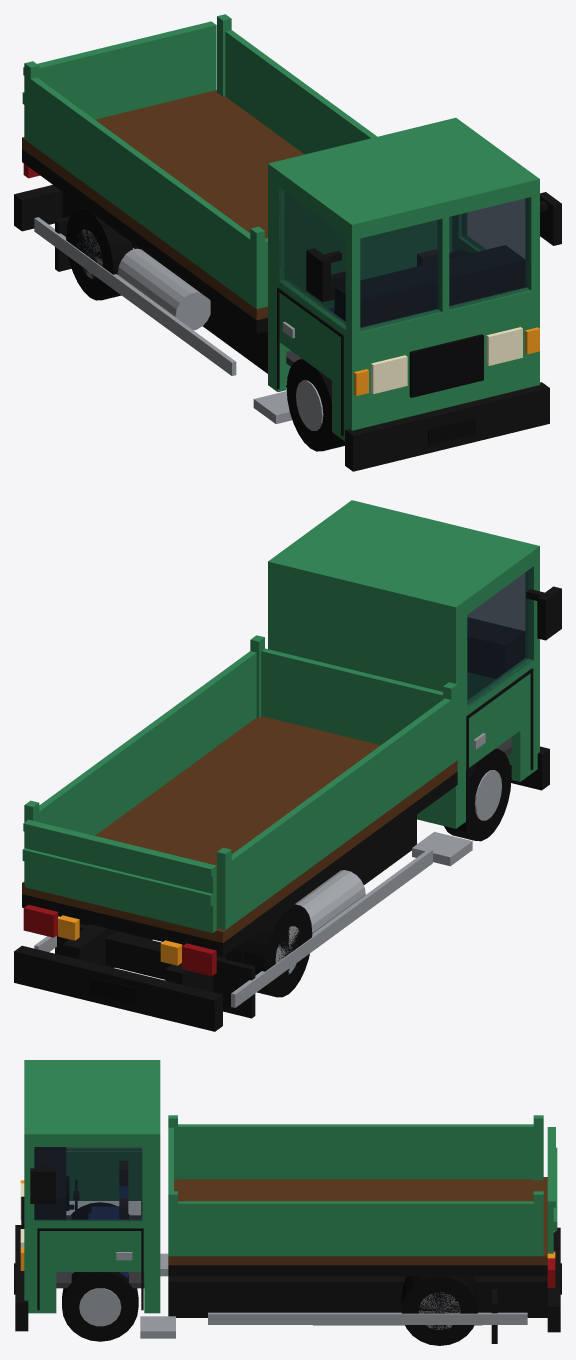
The model's file is truk_bak.glb.
The picture shows the model from 3 angles, top to bottom: view 1: azimuth 30°, elevation 25°; view 2: azimuth 150°, elevation 25°; view 3: azimuth 270°, elevation 25°; orthographic projection. The views are drawn at different scales.
Parts seen in each view (by area): view 1: Roof, CargoFloorWood, BakWall_L, CabFrontLow, Door_Tailgate, BakWall_R, Bumper_F, Windshield_L, Windshield_R, IntDash, SideGlass_L, CabBackTop (+30 smaller); view 2: CargoFloorWood, Roof, BakWall_L, CabBackTop, BakWall_R, Door_Tailgate, BakFront, Bumper_R, SideGlass_L, CargoFloor, Wheel_RL, SideGuard_L (+25 smaller); view 3: BakWall_R, BakWall_L, CargoFloorWood, Roof, ChassisRail_R, SideGlass_R, CargoFloor, SideGuard_R, Wheel_RR, CabArch_R, Wheel_FR, CabArch_L (+22 smaller).
Part boxes in pixels (x1,y1,x2,y2): Roof: (268,117,539,235); CargoFloorWood: (22,90,304,320); BakWall_L: (29,77,262,308); CabFrontLow: (347,293,539,430); Door_Tailgate: (22,21,216,119); BakWall_R: (225,30,377,154); Bumper_F: (345,382,549,471); Windshield_L: (360,219,441,331); Windshield_R: (449,197,530,309); IntDash: (335,245,524,327); SideGlass_L: (279,187,345,329); CabBackTop: (268,181,451,277); CargoFloorWood: (22,716,457,942); Roof: (268,500,539,618); BakWall_L: (230,696,457,925); CabBackTop: (268,575,460,719); BakWall_R: (39,651,256,835); Door_Tailgate: (22,819,216,932); BakFront: (261,648,457,762); Bumper_R: (14,945,222,1031); SideGlass_L: (467,566,533,708); CargoFloor: (22,771,457,956); Wheel_RL: (225,904,312,997); SideGuard_L: (231,849,432,1007); BakWall_R: (168,1201,535,1256); BakWall_L: (178,1124,533,1179); CargoFloorWood: (168,1177,547,1265); Roof: (24,1060,160,1143); ChassisRail_R: (168,1276,547,1317); SideGlass_R: (34,1147,142,1222); CargoFloor: (168,1265,547,1276); SideGuard_R: (208,1312,527,1324); Wheel_RR: (401,1276,477,1345); CabArch_R: (56,1226,144,1271); Wheel_FR: (62,1272,138,1341); CabArch_L: (66,1156,141,1200).
Size of the model in its own units: 1.12 by 1.16 by 2.74.
